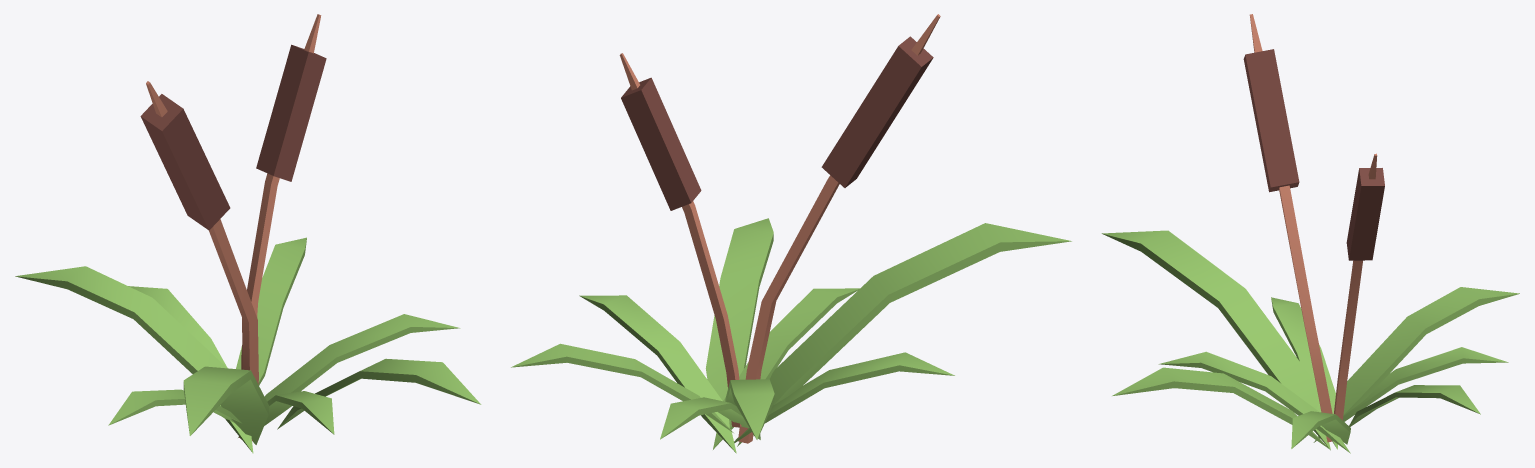
The model's file is hua02.FBX.
The picture shows the model from 3 angles, left to right: view 1: azimuth 30°, elevation 25°; view 2: azimuth 150°, elevation 25°; view 3: azimuth 270°, elevation 25°; orthographic projection. The views are drawn at different scales.
Parts seen in each view (by area): view 1: hua02; view 2: hua02; view 3: hua02.
Boxes of the visible parts, <box> form: hua02: <box>15,14,481,453</box>; hua02: <box>511,14,1071,453</box>; hua02: <box>1101,14,1519,453</box>.
Size of the model in its own units: 64.83 by 70.63 by 72.11.
